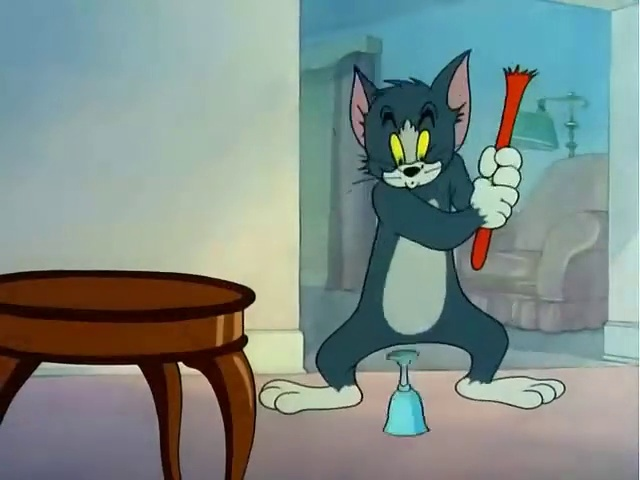tom: (298, 34, 607, 427)
